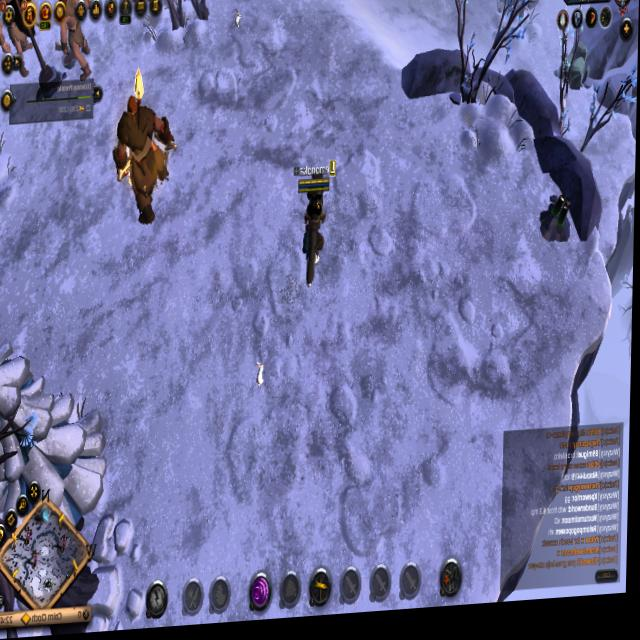ore tier 3: (540, 196, 577, 262)
